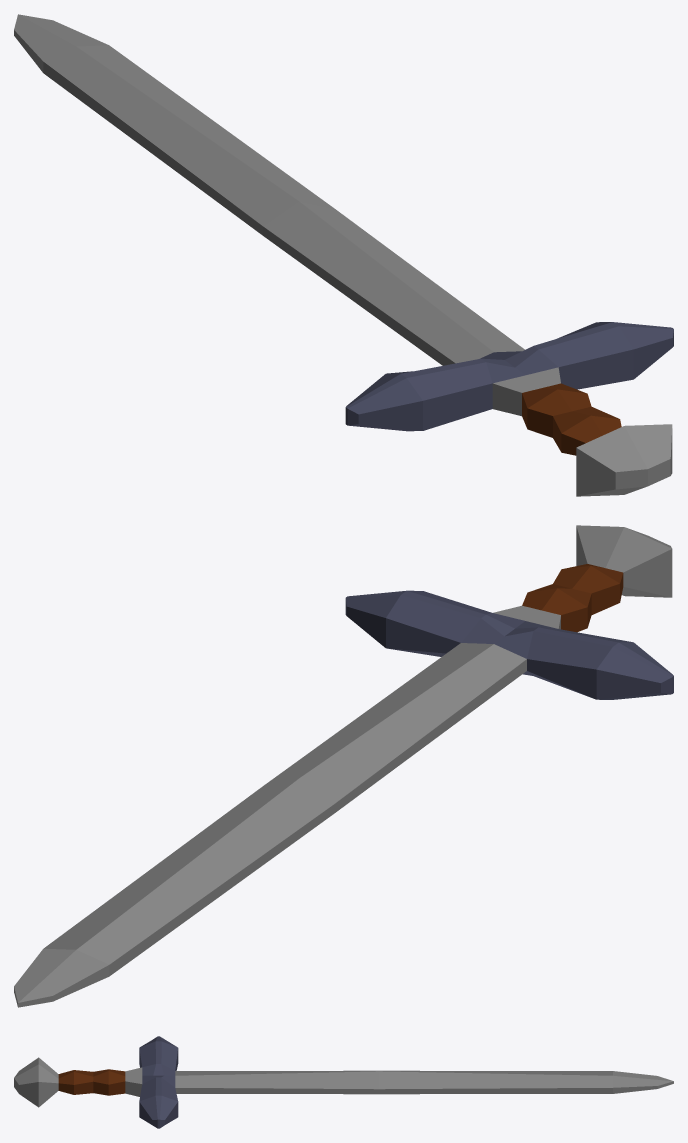
Rendered from sword.fbx.
The picture shows the model from 3 angles, top to bottom: view 1: azimuth 30°, elevation 25°; view 2: azimuth 150°, elevation 25°; view 3: azimuth 270°, elevation 25°; orthographic projection. The views are drawn at different scales.
Visible parts, largest first — view 1: sword_starter; view 2: sword_starter; view 3: sword_starter.
Boxes of the visible parts, x1=… form: sword_starter: x1=14, y1=14, x2=673, y2=496; sword_starter: x1=14, y1=525, x2=673, y2=1007; sword_starter: x1=14, y1=1036, x2=673, y2=1128.
Bounding box in the file's own units: 989 × 200 × 3305.
